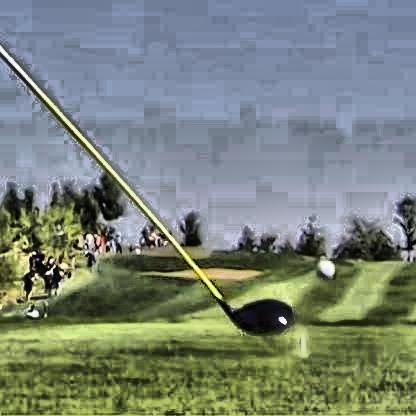golfball: (315, 256, 332, 277)
